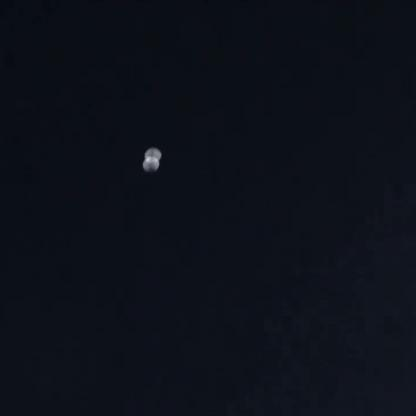ball: (142, 158, 165, 174), (141, 145, 166, 158)
